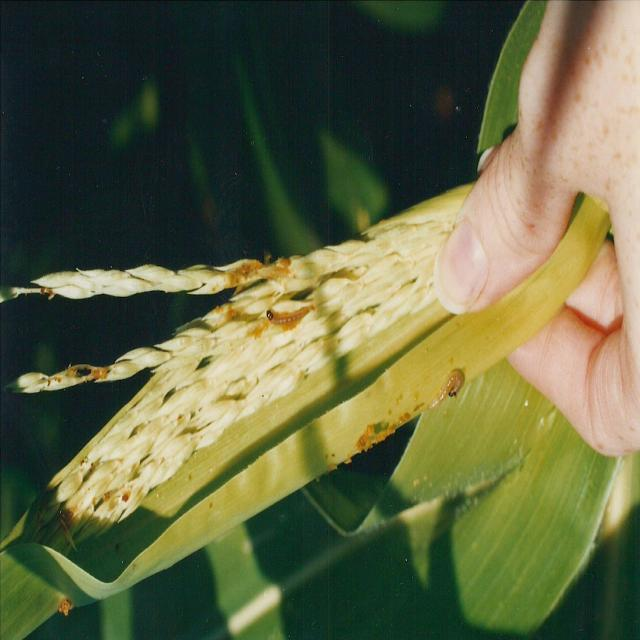cornborer-Larva-: (428, 366, 467, 415), (260, 301, 322, 327)
